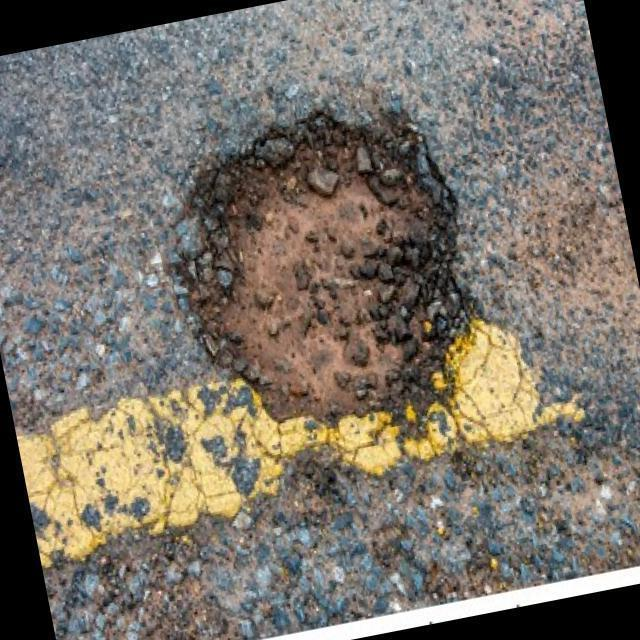pothole: (162, 88, 494, 438)
